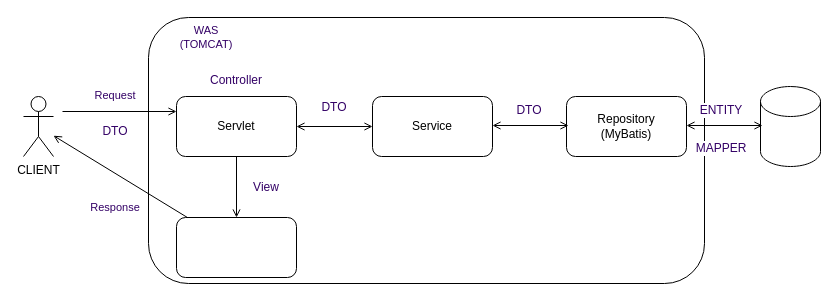
Image size: 838x301. Some labels were removed from this diagram. Here are the shapes that lost their labels. From the top down, the centre of each, then its label:
At pixel 790 126: "ORACLE".
At pixel 236 247: "JSP".
